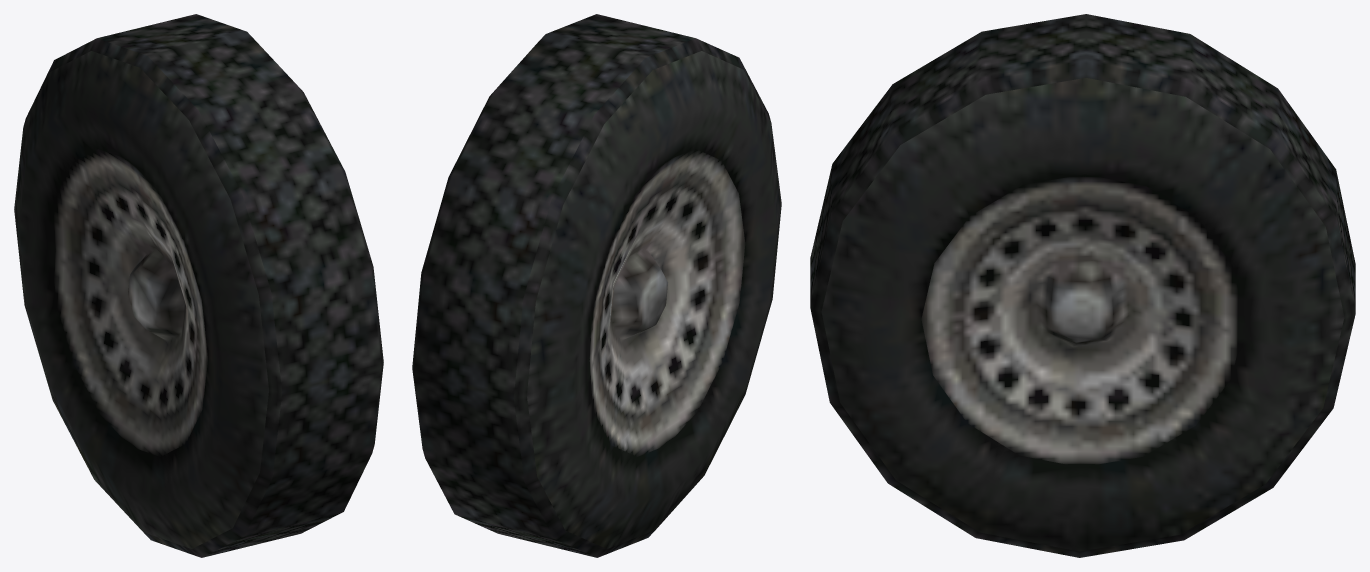
Rendered from jeep_wheel.obj.
3 views of the same model, side by side, from view 1: azimuth 30°, elevation 25°; view 2: azimuth 150°, elevation 25°; view 3: azimuth 270°, elevation 25° (orthographic). The views are drawn at different scales.
Visible parts, largest first — view 1: Jeep.001; view 2: Jeep.001; view 3: Jeep.001.
Part boxes in pixels (box(x1,y1,x2,y2)): Jeep.001: box(14, 14, 383, 557); Jeep.001: box(412, 14, 781, 557); Jeep.001: box(810, 14, 1355, 557).
Bounding box in the file's own units: 0.6696 × 2 × 2.
1 material, 1 textured.
